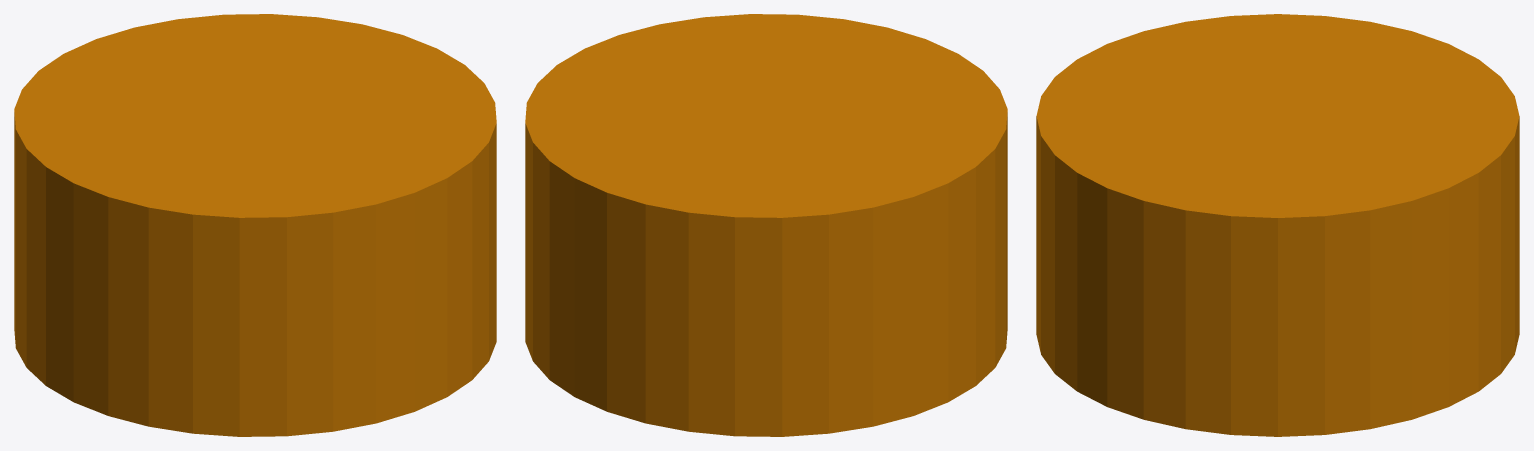
File: ref_circle.dae
3 views of the same model, side by side, from view 1: azimuth 30°, elevation 25°; view 2: azimuth 150°, elevation 25°; view 3: azimuth 270°, elevation 25° (orthographic).
Parts seen in each view (by area): view 1: ref_circle1; view 2: ref_circle1; view 3: ref_circle1.
Boxes of the visible parts, x1=… form: ref_circle1: x1=14, y1=14, x2=496, y2=436; ref_circle1: x1=525, y1=14, x2=1007, y2=436; ref_circle1: x1=1036, y1=14, x2=1519, y2=436.
Bounding box in the file's own units: 2 × 2 × 1.
Materials: 1 (1 with a texture image).
